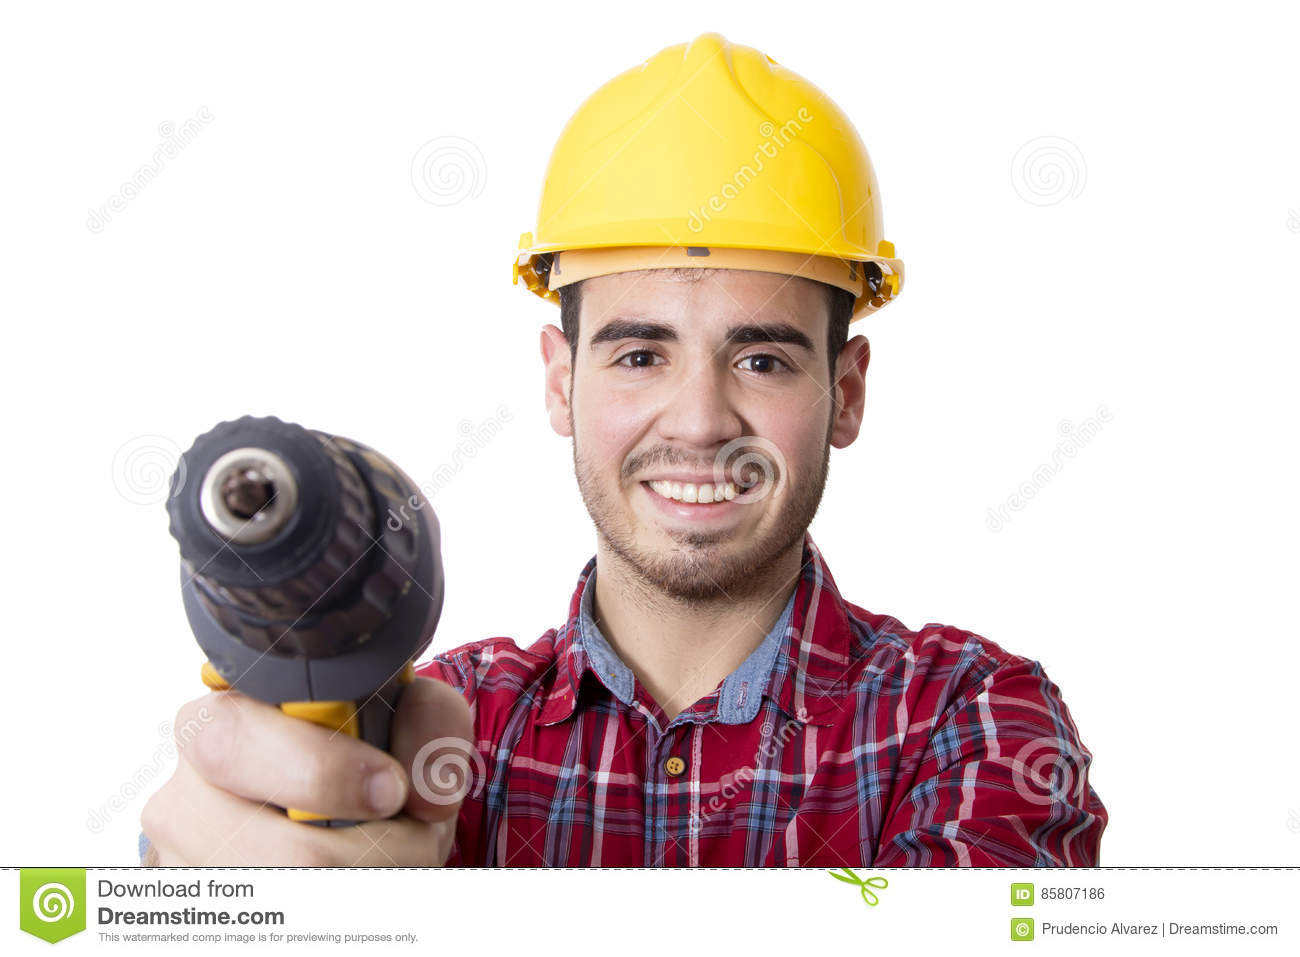casco: (508, 31, 907, 324)
